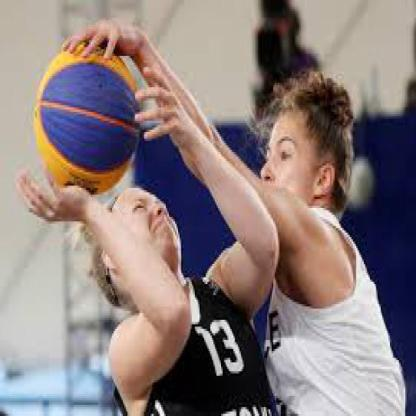basketball: (34, 45, 140, 197)
